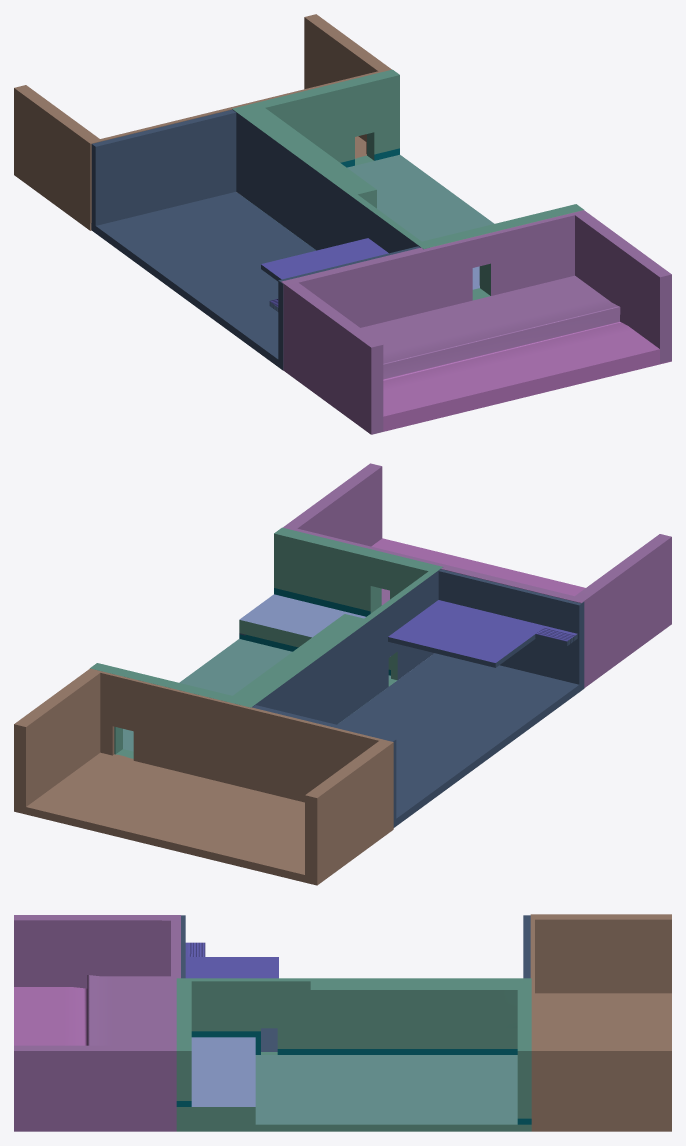
Rendered from rooms.glb.
The picture shows the model from 3 angles, top to bottom: view 1: azimuth 30°, elevation 25°; view 2: azimuth 150°, elevation 25°; view 3: azimuth 270°, elevation 25°; orthographic projection. The views are drawn at different scales.
Visible parts, largest first — view 1: polySurface1, polySurface4, polySurface7, polySurface8; view 2: polySurface8, polySurface4, polySurface7, polySurface1; view 3: polySurface7, polySurface1, polySurface8, polySurface4.
Boxes of the visible parts, x1,y1,x2,y2 form: polySurface1: (281,210,671,434); polySurface4: (91,109,420,370); polySurface7: (232,69,583,295); polySurface8: (14,14,391,230); polySurface8: (14,668,393,885); polySurface4: (252,569,584,827); polySurface7: (90,527,442,758); polySurface1: (283,463,671,687); polySurface7: (176,978,531,1131); polySurface1: (14,915,180,1131); polySurface8: (530,914,671,1131); polySurface4: (181,915,530,1051).
Size of the model in its own units: 0.6186 by 0.1708 by 1.26.
